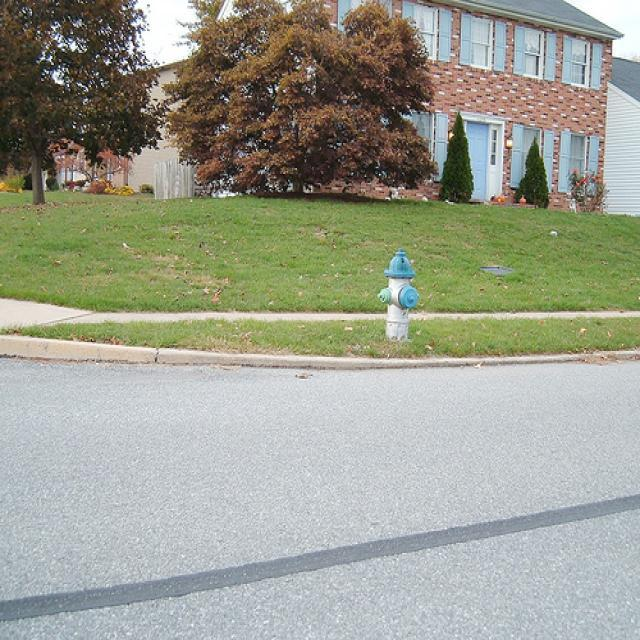fire_hydrant: (376, 248, 416, 340)
